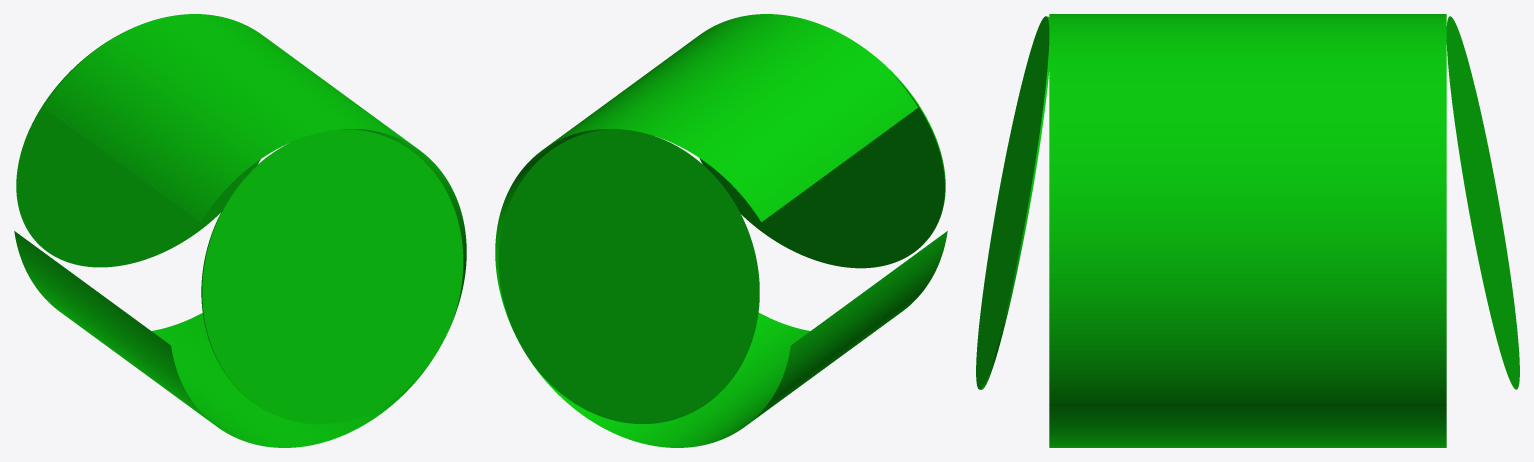
Rendered from plane bend78.obj.
3 views of the same model, side by side, from view 1: azimuth 30°, elevation 25°; view 2: azimuth 150°, elevation 25°; view 3: azimuth 270°, elevation 25° (orthographic). The views are drawn at different scales.
Parts seen in each view (by area): view 1: Circle, Plane, Circle.001; view 2: Circle.001, Plane, Circle; view 3: Plane, Circle, Circle.001.
Part boxes in pixels (left/top/right/bottom): Circle: left=201, top=129, right=463, bottom=423; Plane: left=14, top=14, right=466, bottom=447; Circle.001: left=16, top=34, right=260, bottom=267; Circle.001: left=498, top=129, right=759, bottom=423; Plane: left=495, top=14, right=947, bottom=447; Circle: left=699, top=34, right=945, bottom=268; Plane: left=1049, top=14, right=1446, bottom=447; Circle: left=976, top=16, right=1049, bottom=389; Circle.001: left=1446, top=16, right=1519, bottom=389.
Bounding box in the file's own units: 2.18 × 2.19 × 2.74.
